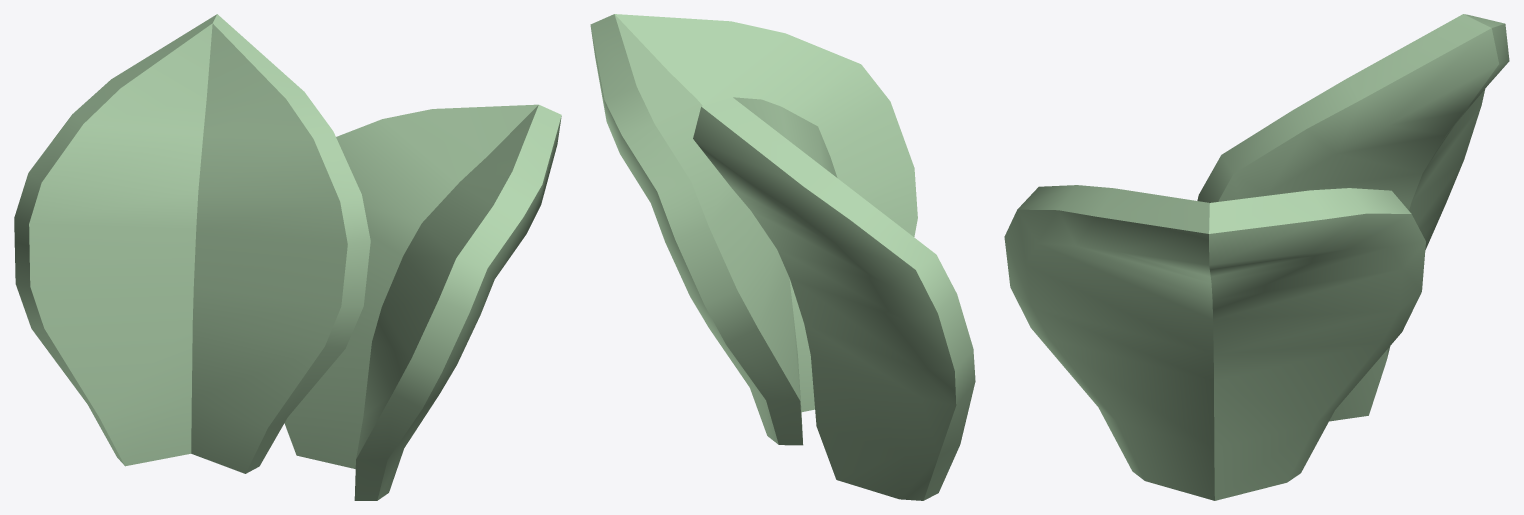
The model's file is foliage_A.glb.
The picture shows the model from 3 angles, left to right: view 1: azimuth 30°, elevation 25°; view 2: azimuth 150°, elevation 25°; view 3: azimuth 270°, elevation 25°; orthographic projection. The views are drawn at different scales.
Visible parts, largest first — view 1: foliage_A; view 2: foliage_A; view 3: foliage_A.
Boxes of the visible parts, left/top/right/bottom form: foliage_A: left=14, top=14, right=561, bottom=500; foliage_A: left=590, top=14, right=975, bottom=500; foliage_A: left=1004, top=14, right=1509, bottom=500.
Bounding box in the file's own units: 0.5275 × 0.4319 × 0.445.
